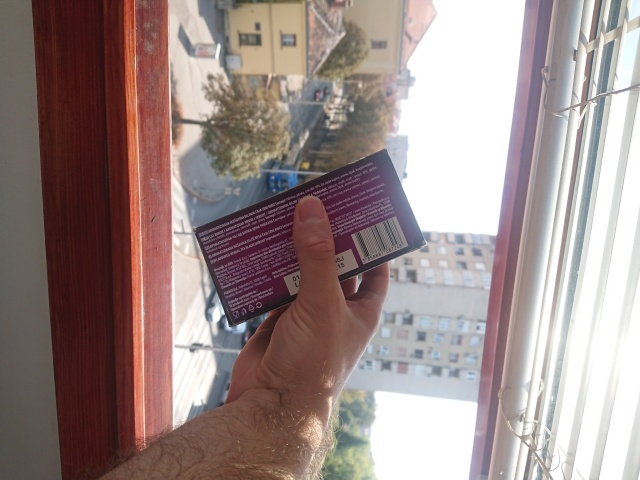Franck Black Currant Tea 60g: (190, 146, 430, 329)
